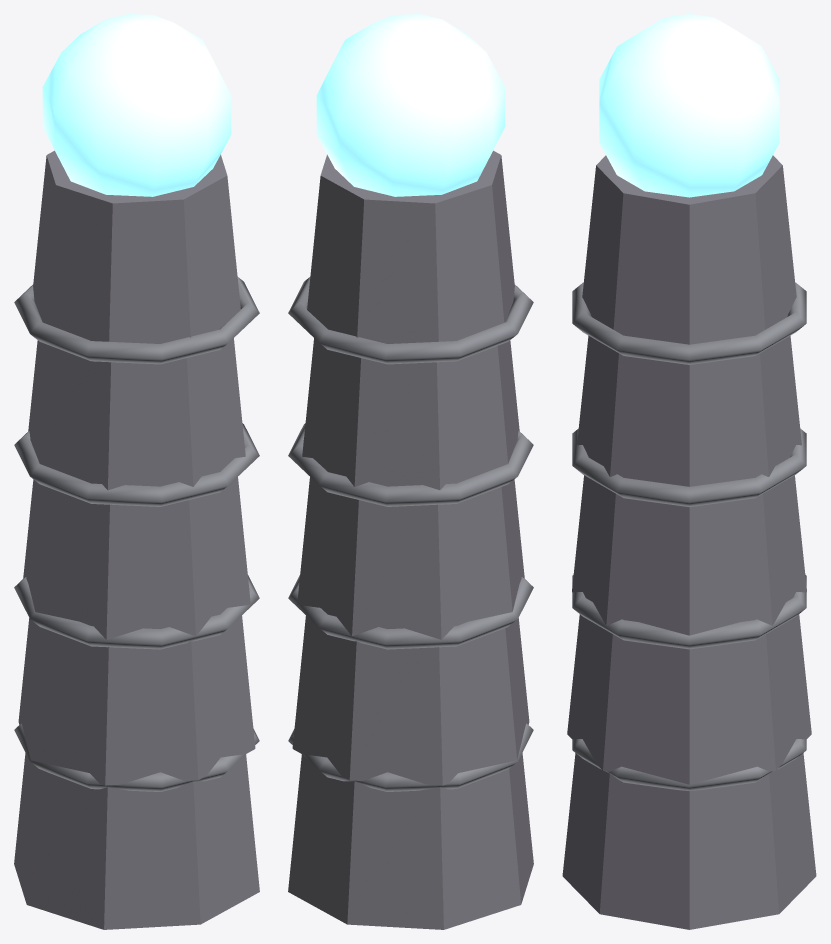
The model's file is mythic-underworld-and-olympus-soul-cairn-9c37128e__21361.glb.
3 views of the same model, side by side, from view 1: azimuth 30°, elevation 25°; view 2: azimuth 150°, elevation 25°; view 3: azimuth 270°, elevation 25° (orthographic).
Visible parts, largest first — view 1: soul-cairn; view 2: soul-cairn; view 3: soul-cairn.
Boxes of the visible parts, bbox=[...] form: soul-cairn: bbox=[14, 14, 259, 929]; soul-cairn: bbox=[288, 14, 533, 929]; soul-cairn: bbox=[562, 14, 816, 929].
Size of the model in its own units: 0.6799 by 2.52 by 0.6799.
